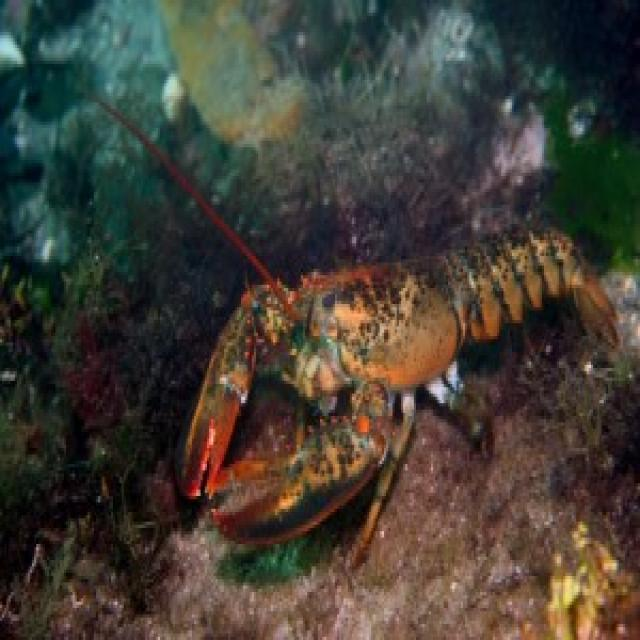lobsters: (97, 90, 640, 540)
